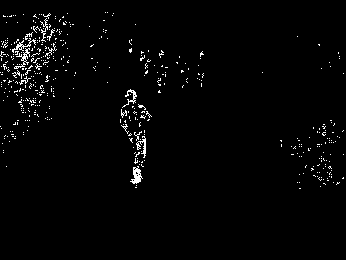person: (119, 89, 152, 189)
